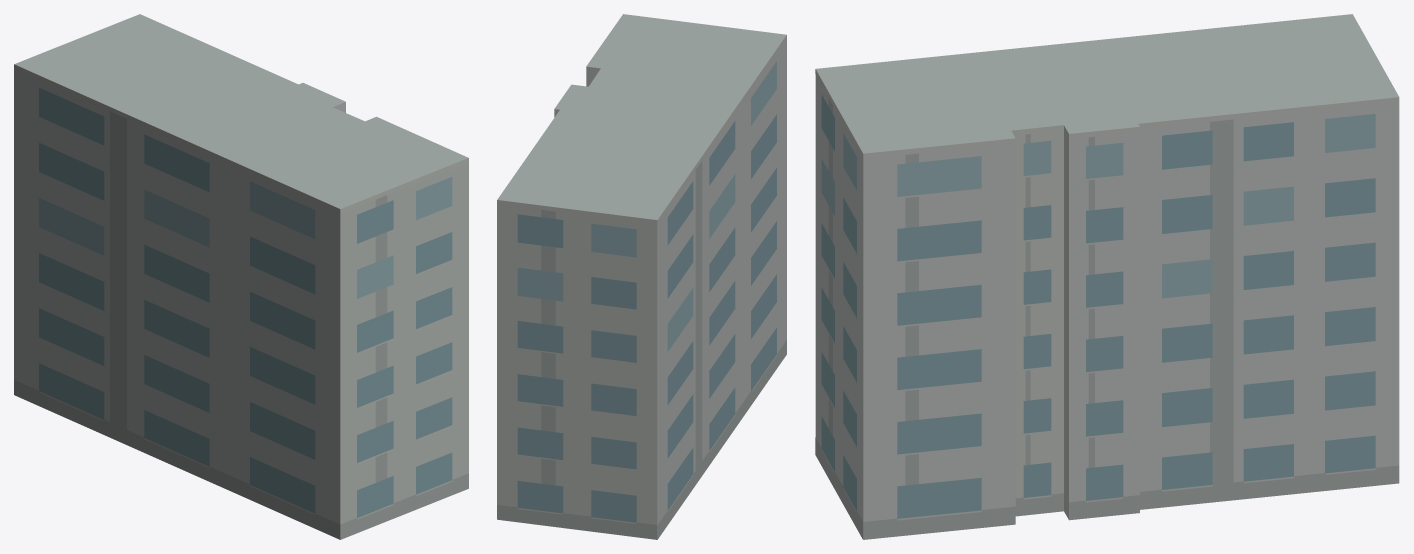
Rendered from survey-upis-32564434.glb.
3 views of the same model, side by side, from view 1: azimuth 30°, elevation 25°; view 2: azimuth 150°, elevation 25°; view 3: azimuth 270°, elevation 25° (orthographic). The views are drawn at different scales.
Visible parts, largest first — view 1: survey-upis-32564434.tmp; view 2: survey-upis-32564434.tmp; view 3: survey-upis-32564434.tmp.
Part boxes in pixels (bbox=[...]): survey-upis-32564434.tmp: bbox=[14, 14, 468, 539]; survey-upis-32564434.tmp: bbox=[497, 14, 786, 539]; survey-upis-32564434.tmp: bbox=[815, 14, 1399, 539].
Size of the model in its own units: 13.66 by 17.6 by 24.12.
